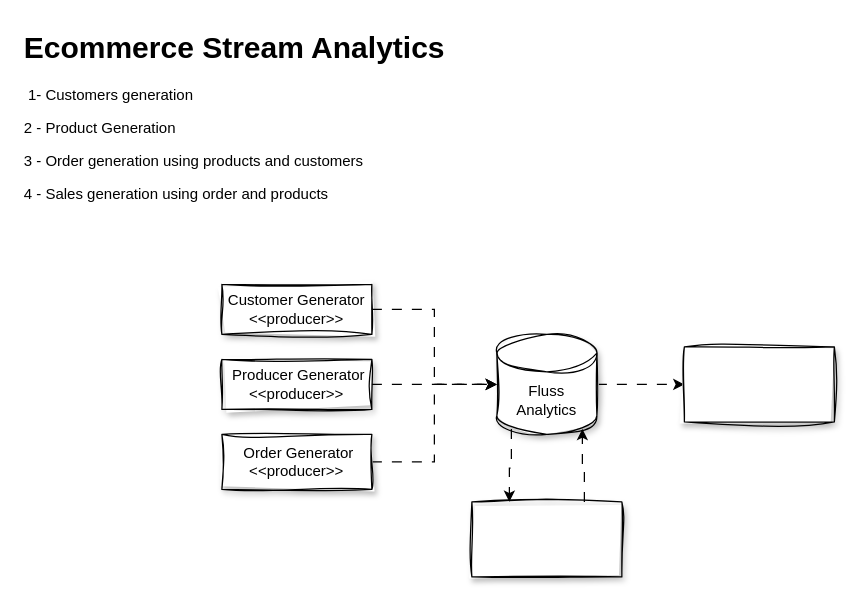
Some shapes in this 864 by 608 pixel diagram are drawn without their labels. The centre of each missing label's shape, as x and y in pixels:
Aggregate Customers by City <<enricher>>: pixel 547 541
Present Customers <<consumer>>: pixel 760 386
